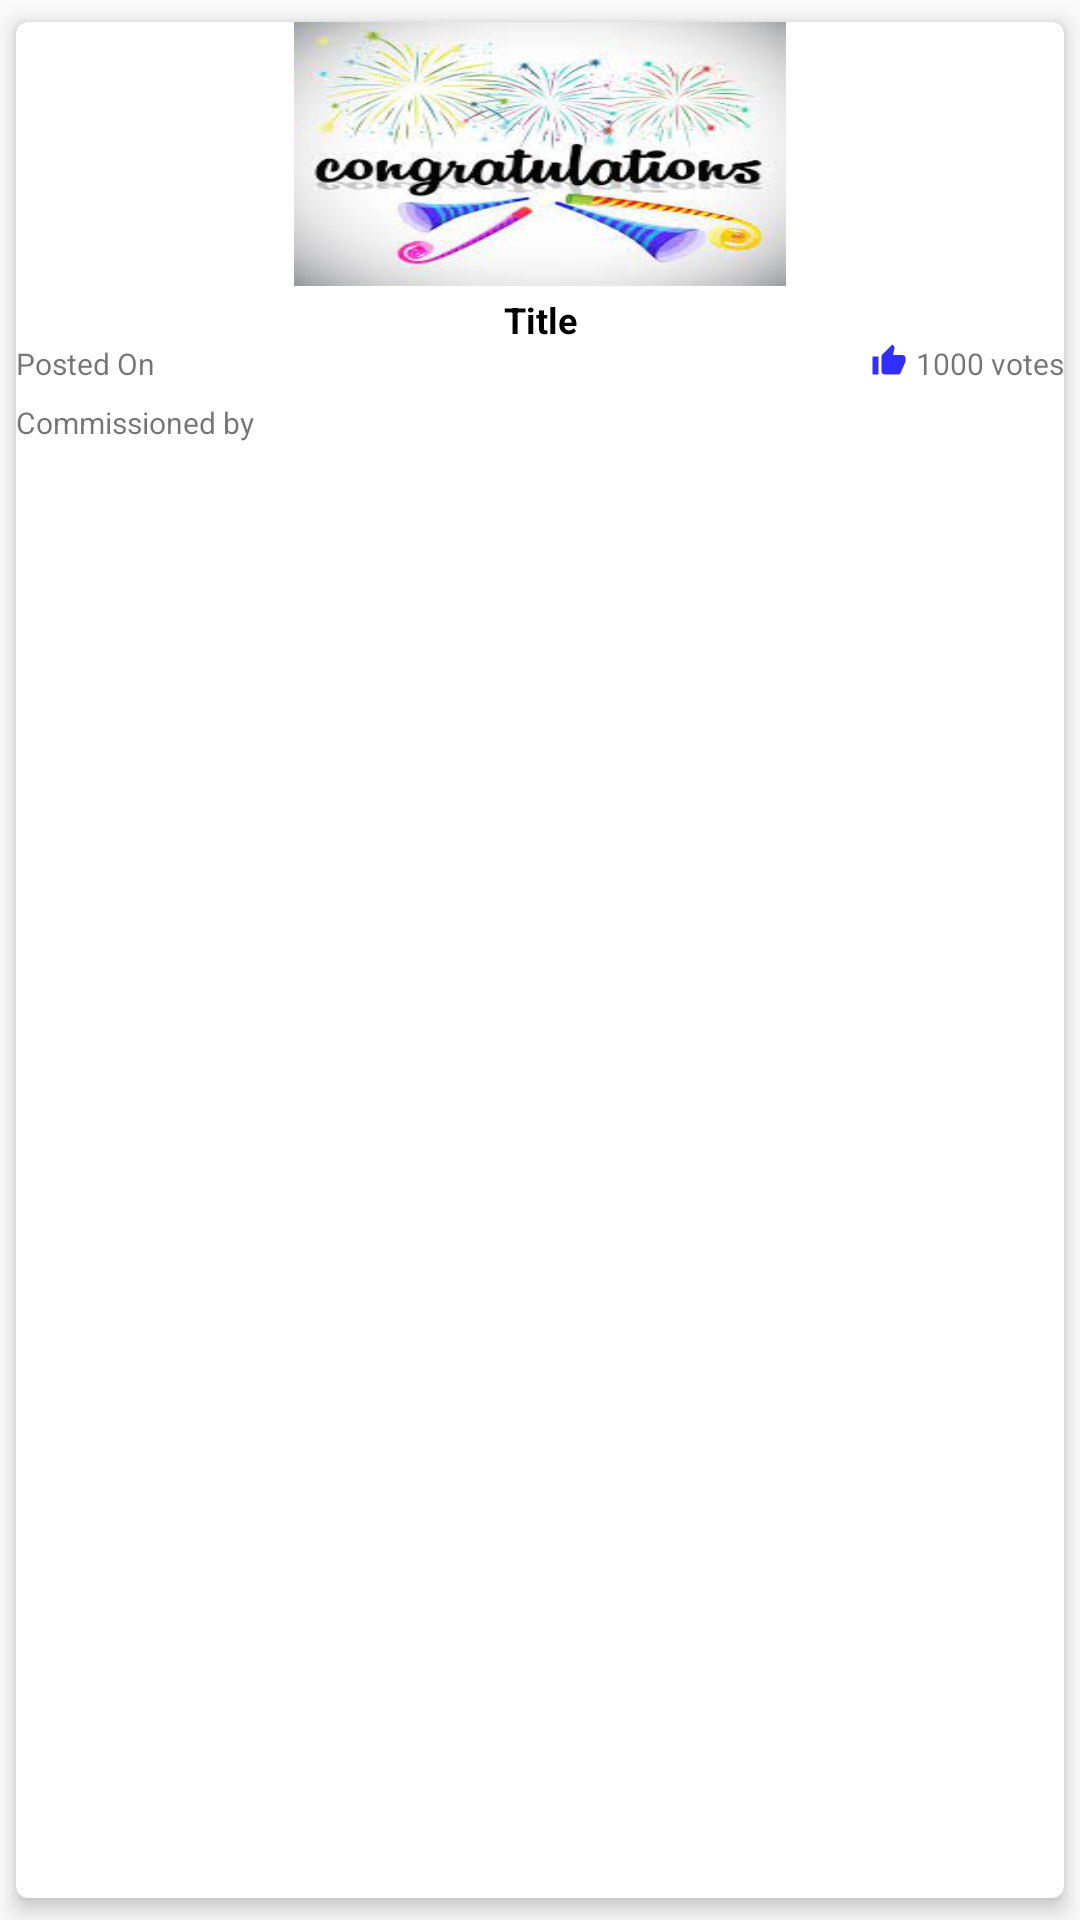

Icons on this 1080 × 1920 Android screen, each with the point to tap as (x=x, y=y):
thumb up: (x=889, y=359)
